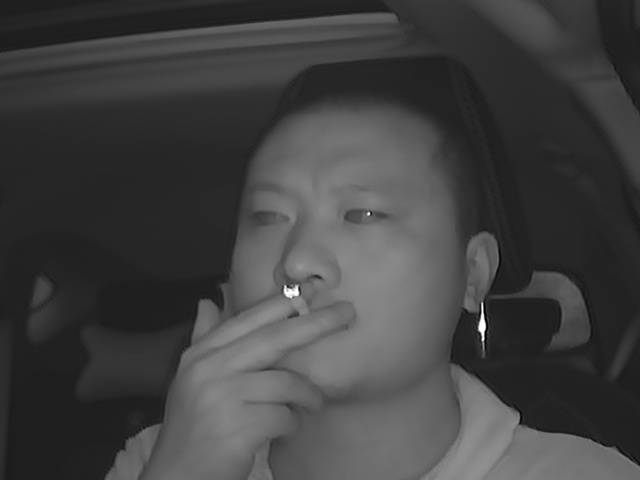hand: (202, 278, 353, 436)
